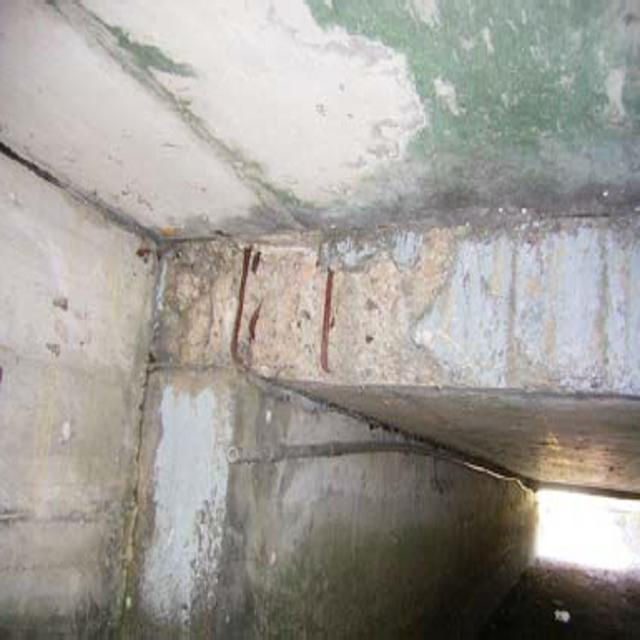spalling: (109, 198, 488, 388)
